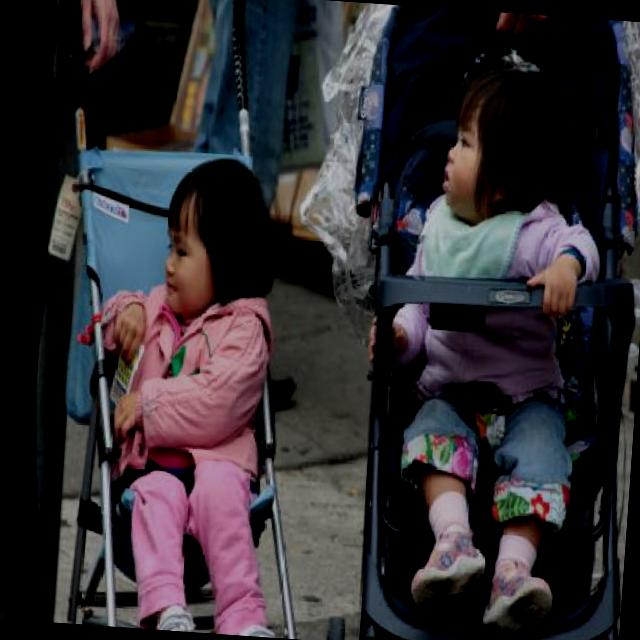Person: (347, 57, 615, 640), (80, 148, 310, 638), (0, 0, 126, 622), (493, 12, 550, 54)
